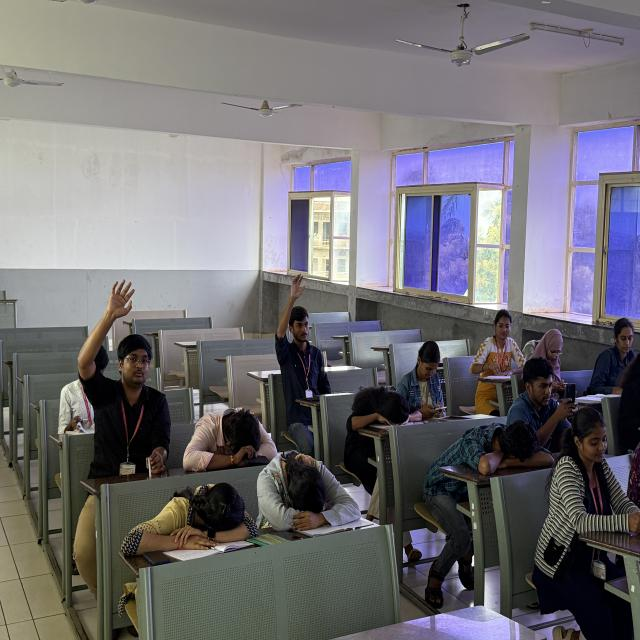Hand Rising: (77, 272, 170, 464), (272, 266, 326, 410)
Sleeping: (116, 469, 263, 567), (250, 449, 372, 542), (422, 410, 554, 490), (177, 401, 286, 480), (341, 377, 428, 447)
Using Phone: (502, 354, 584, 454), (396, 337, 449, 414), (527, 328, 575, 395)
Writing: (464, 304, 528, 387)
